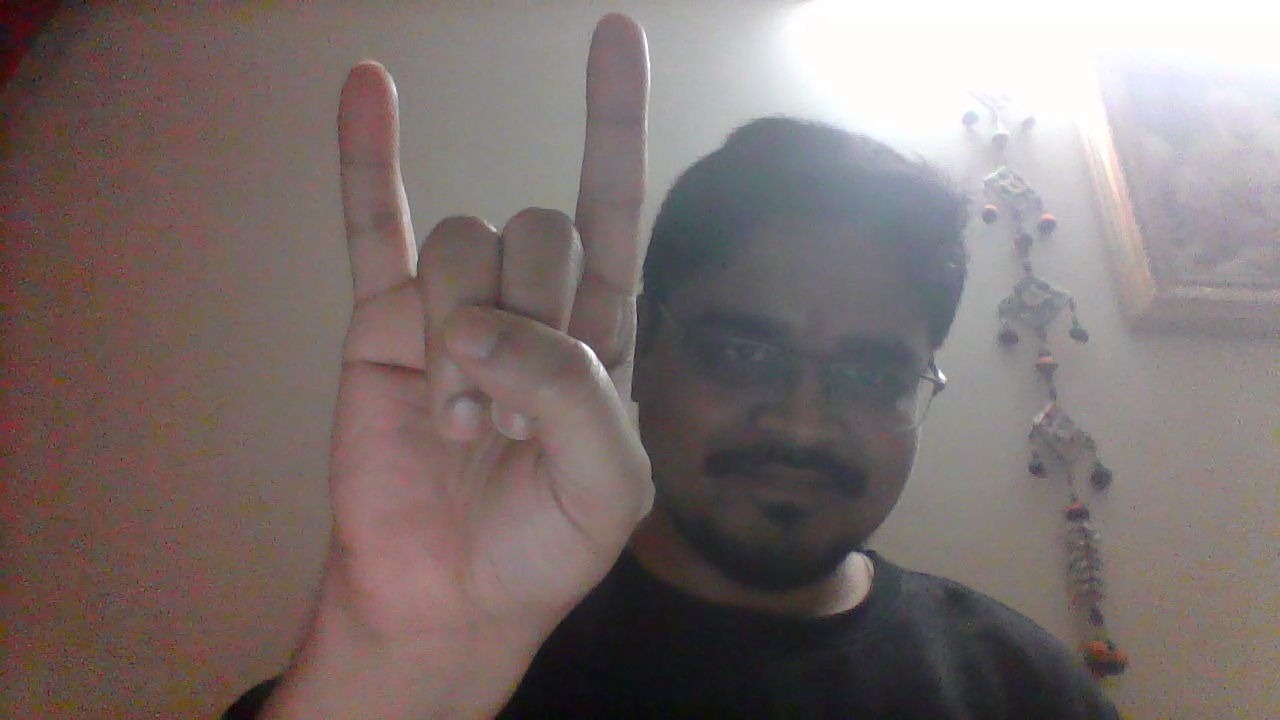ILoveYou: (318, 11, 656, 711)
